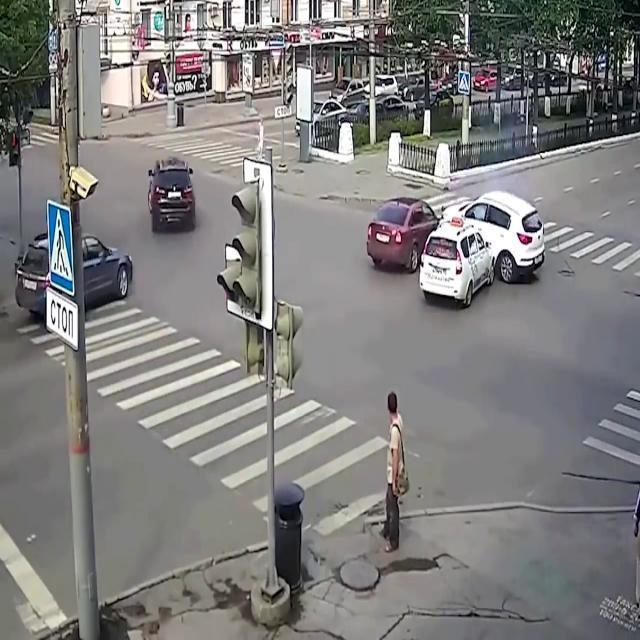accident: (422, 194, 544, 300)
non-accident: (298, 65, 564, 141), (297, 72, 437, 138), (472, 64, 566, 92)
